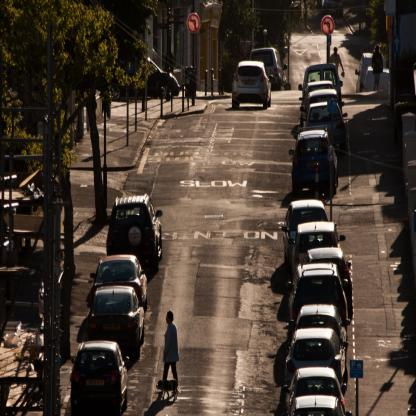Car: (280, 59, 354, 416), (290, 60, 343, 192), (104, 190, 165, 270), (84, 286, 144, 356), (68, 340, 129, 408), (90, 252, 148, 310), (109, 57, 179, 101), (232, 57, 273, 108), (249, 45, 288, 92)
